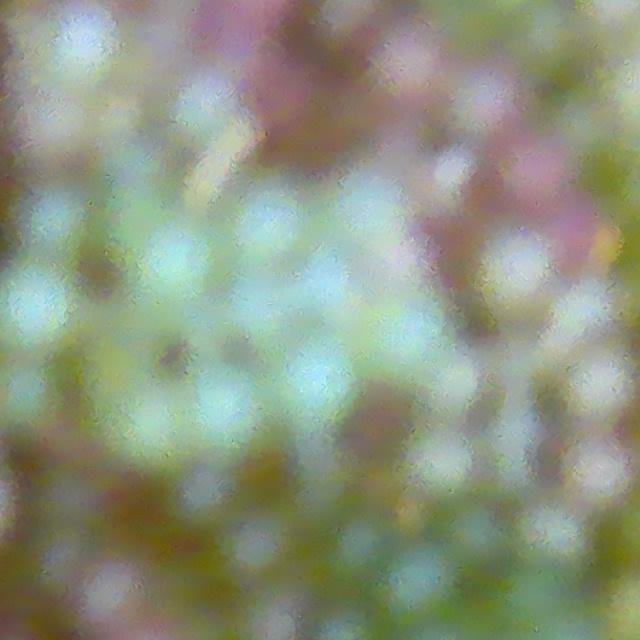SeaGrape: (179, 362, 271, 461), (361, 14, 442, 121), (355, 281, 448, 374), (0, 263, 81, 363), (470, 229, 558, 321), (235, 49, 323, 137), (377, 538, 462, 626), (138, 233, 226, 309), (288, 339, 356, 437), (514, 1, 591, 85), (14, 188, 95, 265), (516, 500, 597, 576), (228, 193, 305, 272), (564, 345, 640, 425), (441, 65, 511, 151), (219, 510, 299, 585), (405, 426, 477, 505), (324, 512, 394, 586), (500, 130, 558, 214), (445, 502, 511, 571), (97, 183, 176, 239), (568, 440, 633, 506), (229, 585, 305, 640), (0, 365, 58, 430)
